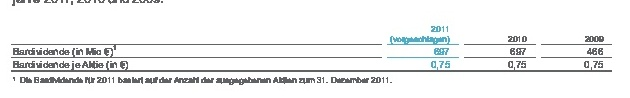table: (0, 0, 630, 98)
